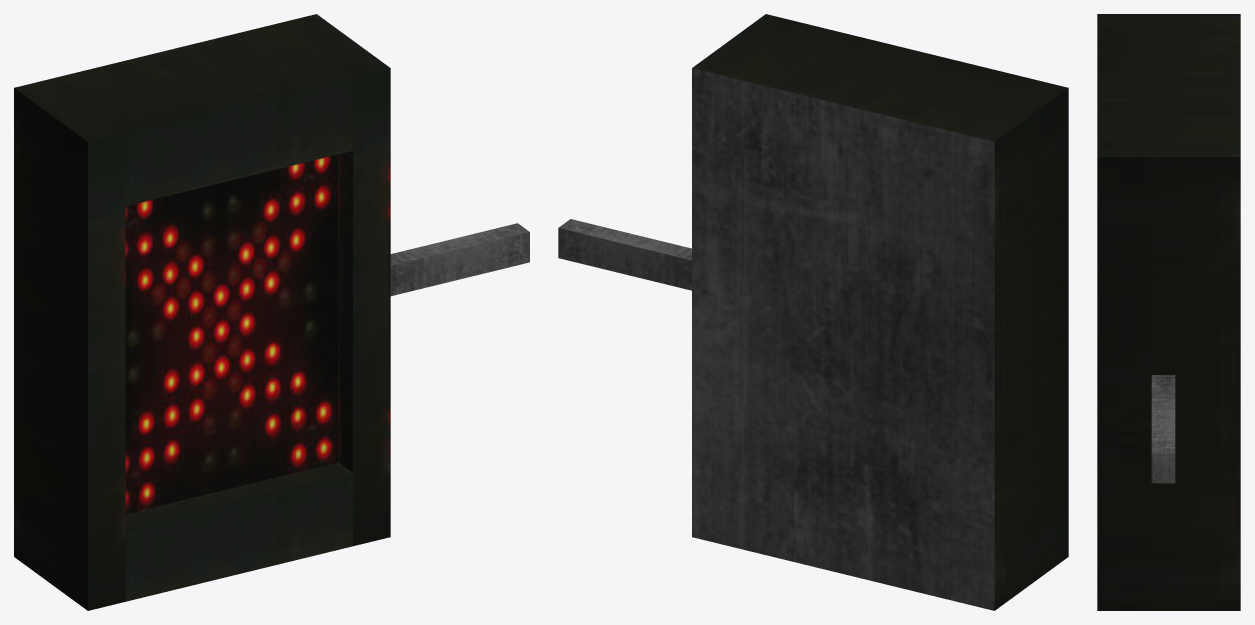
The model's file is signal light4.FBX.
The picture shows the model from 3 angles, left to right: view 1: azimuth 30°, elevation 25°; view 2: azimuth 150°, elevation 25°; view 3: azimuth 270°, elevation 25°; orthographic projection. The views are drawn at different scales.
Parts seen in each view (by area): view 1: signal light4; view 2: signal light4; view 3: signal light4.
Boxes of the visible parts, bbox=[...] form: signal light4: bbox=[14, 14, 529, 610]; signal light4: bbox=[558, 14, 1068, 610]; signal light4: bbox=[1097, 14, 1240, 610].
Bounding box in the file's own units: 7.34 × 7 × 2.
